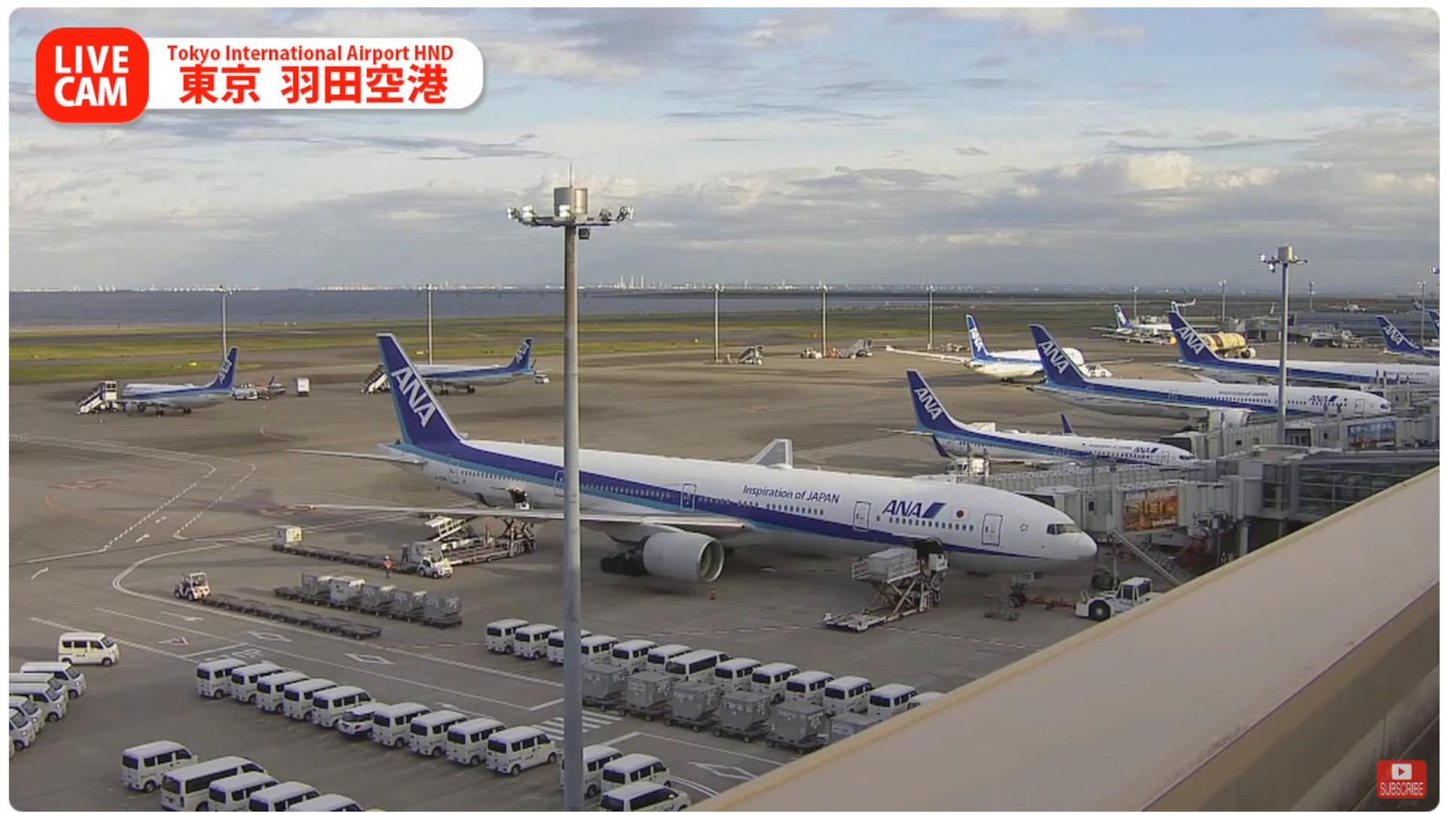APS: (1079, 573, 1169, 620)
Aerobridge: (937, 438, 1217, 490), (1025, 480, 1229, 535)
Airplane: (279, 328, 1098, 610)
Dolly: (276, 584, 456, 636), (256, 542, 415, 575)
JCPL: (830, 549, 945, 633), (447, 519, 535, 571)
Skyloader: (416, 502, 490, 546)
Tractor: (412, 549, 448, 575)
Window: (1286, 455, 1435, 523)
